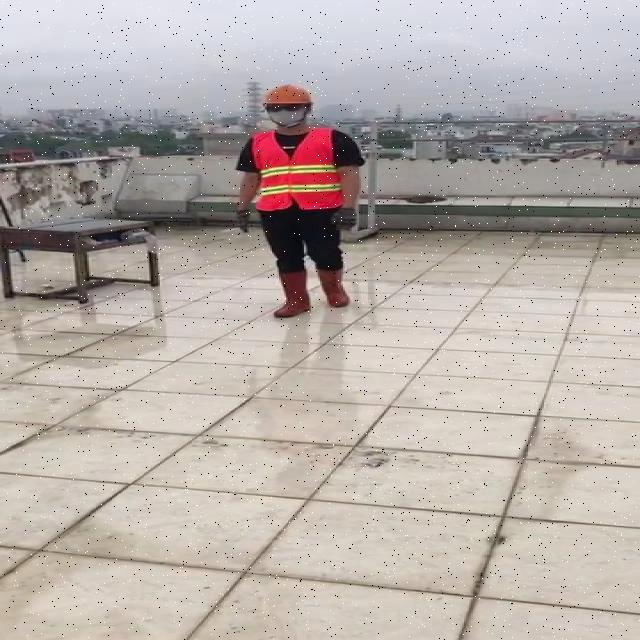Hard_hat: (258, 82, 319, 115)
Vest: (251, 123, 344, 212)
